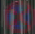No Stopping: (3, 0, 33, 33)
